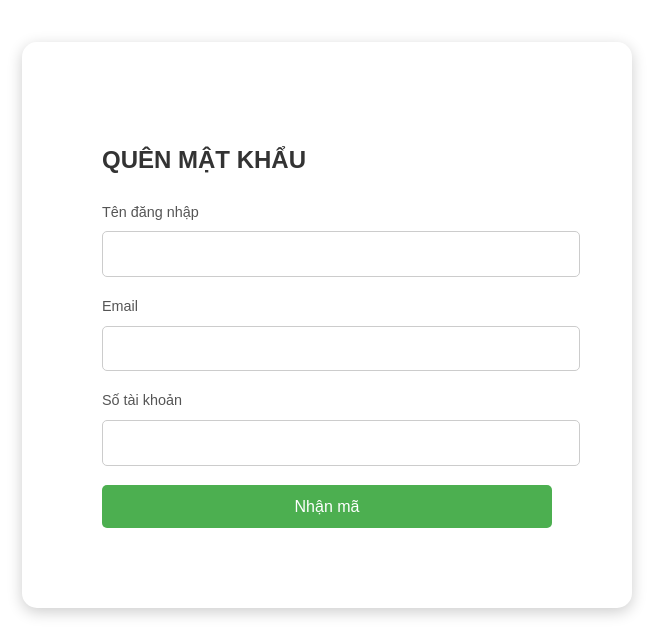
Test case: shows error if account number is not numeric
The width and height of the screenshot is (655, 635).
Type "testuser" into the field labelled "Tên đăng nhập".
click(341, 254); type("testuser")  # box [102,231,580,277]
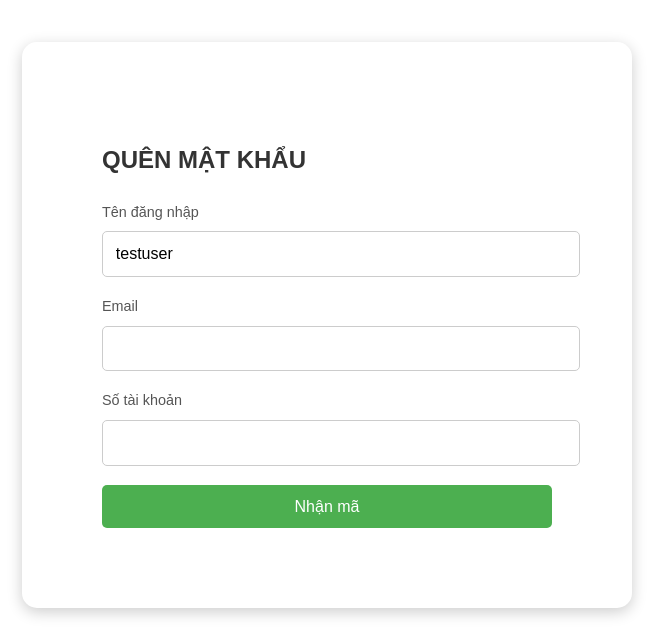
Type "test@example.com" into the field labelled "Email".
click(341, 348); type("test@example.com")  # box [102,326,580,371]
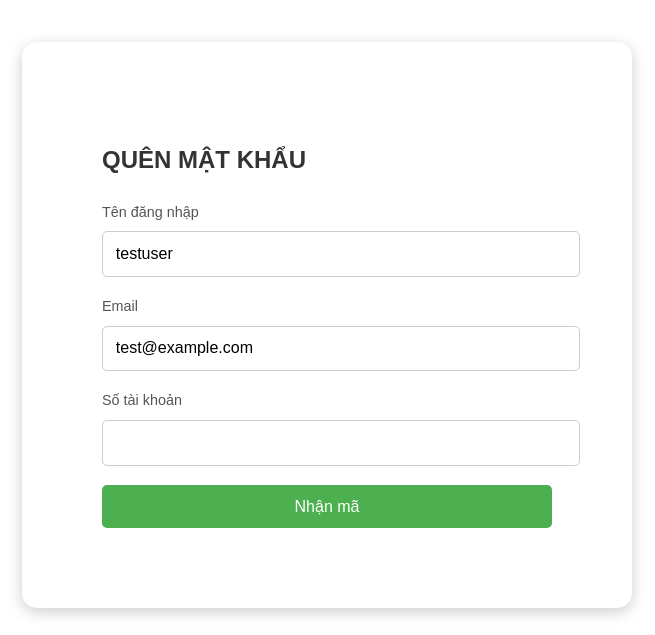
Type "Acc123" into the field labelled "Số tài khoản".
click(341, 443); type("Acc123")  # box [102,420,580,466]
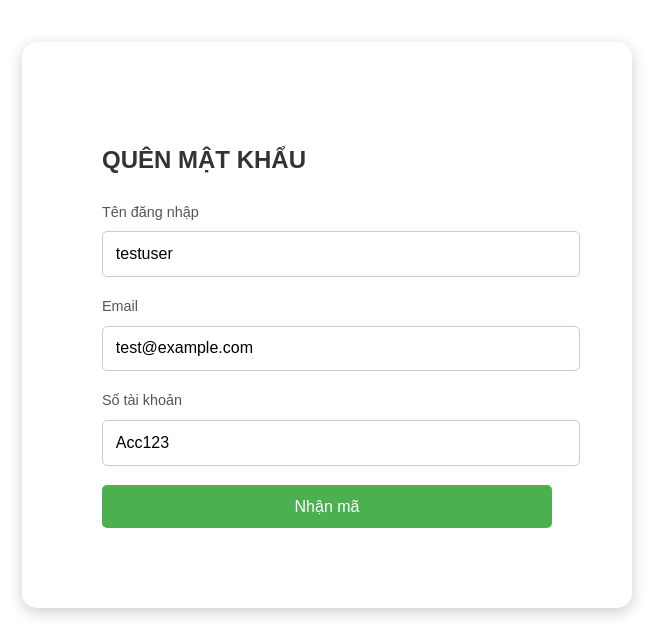
Click the button "Nhận mã".
click(327, 506)  # box [102,485,552,528]
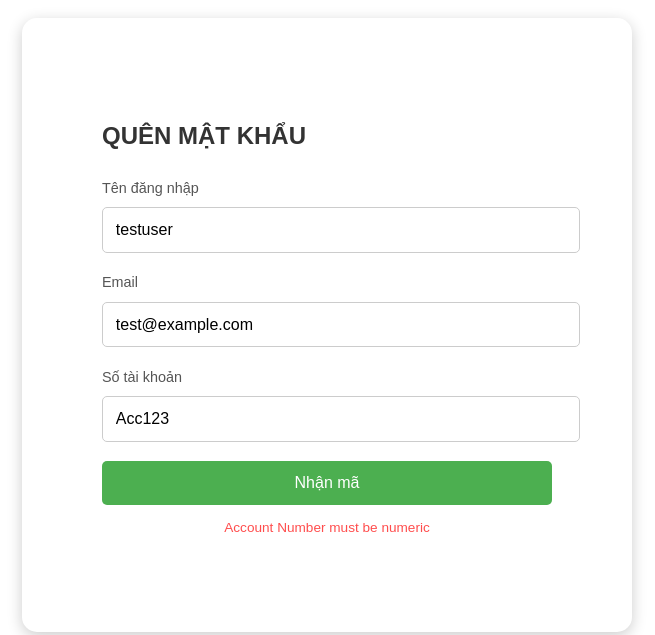
Now the text "Account Number must be numeric" is shown, box [224,520,430,535]
